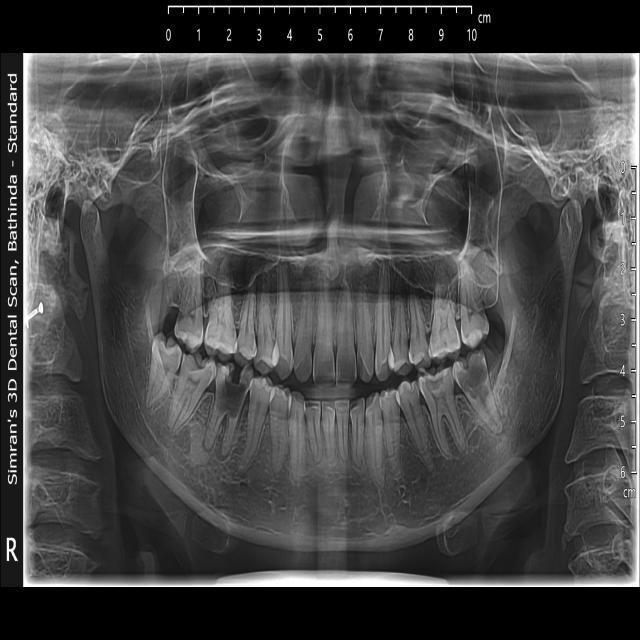Caries: (215, 363, 253, 414), (455, 352, 488, 404), (418, 367, 454, 404), (180, 351, 215, 383), (175, 308, 202, 348)
Periapical lesion: (202, 440, 229, 464)
impacted tooth: (147, 327, 178, 401)
